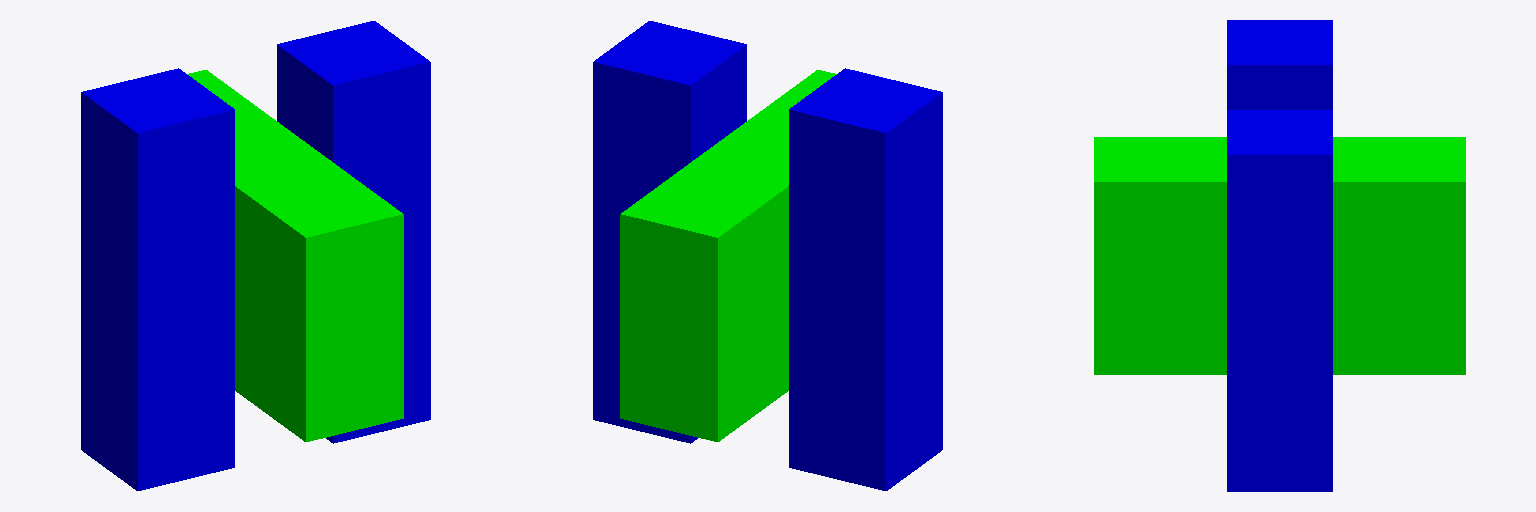
URDF robot description (robot):
<robot name = "robot">
    <link name="root">
        <inertial>
            <origin xyz="0.0 0.0 1.5" rpy="0 0 0"/>
            <mass value="1" />
            <inertia ixx="100" ixy="0" ixz="0" iyy="100" iyz="0" izz="100" />
        </inertial>
        <visual>
            <origin xyz="0.0 0.0 1.5" rpy="0 0 0"/>
            <geometry>
                <box size="0 0 0.0001" />
            </geometry>
            <material name="Green">
                <color rgba="0 1.0 0.0 1.0"/>
            </material>
        </visual>
        <collision>
            <origin xyz="0.0 0.0 1.5" rpy="0 0 0"/>
            <geometry>
                <box size="0 0 0.0001" />
            </geometry>
        </collision>
    </link>
    <joint name="root_000" type="revolute">
       <parent link="root"/>
       <child  link="000"/>
       <origin rpy="0 0 0" xyz="0.0 0.0 1.5" />
     <axis xyz="1 0 0"/>
       <limit effort="0.0" lower="-3.14159" upper="3.14159" velocity="0.0"/>
    </joint>
    <link name="000">
        <inertial>
            <origin xyz="0.0 0.0 -0.2" rpy="0 0 0"/>
            <mass value="1" />
            <inertia ixx="100" ixy="0" ixz="0" iyy="100" iyz="0" izz="100" />
        </inertial>
        <visual>
            <origin xyz="0.0 0.0 -0.2" rpy="0 0 0"/>
            <geometry>
                <box size="0.2 0.7 0.4" />
            </geometry>
            <material name="Green">
                <color rgba="0 1.0 0.0 1.0"/>
            </material>
        </visual>
        <collision>
            <origin xyz="0.0 0.0 -0.2" rpy="0 0 0"/>
            <geometry>
                <box size="0.2 0.7 0.4" />
            </geometry>
        </collision>
    </link>
    <joint name="000_000-100" type="revolute">
       <parent link="000"/>
       <child  link="000-100"/>
       <origin rpy="0 0 0" xyz="0.1 0.0 -0.2" />
     <axis xyz="1 0 0"/>
       <limit effort="0.0" lower="-3.14159" upper="3.14159" velocity="0.0"/>
    </joint>
    <link name="000-100">
        <inertial>
            <origin xyz="0.05 0.0 -0.0" rpy="0 0 0"/>
            <mass value="1" />
            <inertia ixx="100" ixy="0" ixz="0" iyy="100" iyz="0" izz="100" />
        </inertial>
        <visual>
            <origin xyz="0.05 0.0 -0.0" rpy="0 0 0"/>
            <geometry>
                <box size="0.1 0.2 0.7" />
            </geometry>
            <material name="Blue">
                <color rgba="0 0.0 1.0 1.0"/>
            </material>
        </visual>
        <collision>
            <origin xyz="0.05 0.0 -0.0" rpy="0 0 0"/>
            <geometry>
                <box size="0.1 0.2 0.7" />
            </geometry>
        </collision>
    </link>
    <joint name="000-100_000-110" type="revolute">
       <parent link="000-100"/>
       <child  link="000-110"/>
       <origin rpy="0 0 0" xyz="0.1 0.0 -0.0" />
     <axis xyz="1 0 0"/>
       <limit effort="0.0" lower="-3.14159" upper="3.14159" velocity="0.0"/>
    </joint>
    <link name="000-110">
        <inertial>
            <origin xyz="0.05 0.0 -0.0" rpy="0 0 0"/>
            <mass value="1" />
            <inertia ixx="100" ixy="0" ixz="0" iyy="100" iyz="0" izz="100" />
        </inertial>
        <visual>
            <origin xyz="0.05 0.0 -0.0" rpy="0 0 0"/>
            <geometry>
                <box size="0.1 0.2 0.7" />
            </geometry>
            <material name="Blue">
                <color rgba="0 0.0 1.0 1.0"/>
            </material>
        </visual>
        <collision>
            <origin xyz="0.05 0.0 -0.0" rpy="0 0 0"/>
            <geometry>
                <box size="0.1 0.2 0.7" />
            </geometry>
        </collision>
    </link>
    <joint name="000_000-101" type="revolute">
       <parent link="000"/>
       <child  link="000-101"/>
       <origin rpy="0 0 0" xyz="-0.1 0.0 -0.2" />
     <axis xyz="1 0 0"/>
       <limit effort="0.0" lower="-3.14159" upper="3.14159" velocity="0.0"/>
    </joint>
    <link name="000-101">
        <inertial>
            <origin xyz="-0.05 0.0 -0.0" rpy="0 0 0"/>
            <mass value="1" />
            <inertia ixx="100" ixy="0" ixz="0" iyy="100" iyz="0" izz="100" />
        </inertial>
        <visual>
            <origin xyz="-0.05 0.0 -0.0" rpy="0 0 0"/>
            <geometry>
                <box size="0.1 0.2 0.7" />
            </geometry>
            <material name="Blue">
                <color rgba="0 0.0 1.0 1.0"/>
            </material>
        </visual>
        <collision>
            <origin xyz="-0.05 0.0 -0.0" rpy="0 0 0"/>
            <geometry>
                <box size="0.1 0.2 0.7" />
            </geometry>
        </collision>
    </link>
    <joint name="000-101_000-111" type="revolute">
       <parent link="000-101"/>
       <child  link="000-111"/>
       <origin rpy="0 0 0" xyz="-0.1 0.0 -0.0" />
     <axis xyz="1 0 0"/>
       <limit effort="0.0" lower="-3.14159" upper="3.14159" velocity="0.0"/>
    </joint>
    <link name="000-111">
        <inertial>
            <origin xyz="-0.05 0.0 -0.0" rpy="0 0 0"/>
            <mass value="1" />
            <inertia ixx="100" ixy="0" ixz="0" iyy="100" iyz="0" izz="100" />
        </inertial>
        <visual>
            <origin xyz="-0.05 0.0 -0.0" rpy="0 0 0"/>
            <geometry>
                <box size="0.1 0.2 0.7" />
            </geometry>
            <material name="Blue">
                <color rgba="0 0.0 1.0 1.0"/>
            </material>
        </visual>
        <collision>
            <origin xyz="-0.05 0.0 -0.0" rpy="0 0 0"/>
            <geometry>
                <box size="0.1 0.2 0.7" />
            </geometry>
        </collision>
    </link>
</robot>

--- Facts derived from the render (not from the file) ---
Views: 3 orthographic renders of the robot side by side, from view 1: azimuth 30°, elevation 25°; view 2: azimuth 150°, elevation 25°; view 3: azimuth 270°, elevation 25°.
Robot: robot — 6 links, 5 joints (5 revolute); root link root; default pose: every joint at zero.
Visible links, largest first — view 1: 000, 000-111, 000-101, 000-110, 000-100; view 2: 000, 000-111, 000-101, 000-110, 000-100; view 3: 000, 000-110, 000-101, 000-100, 000-111.
Link boxes in pixels (x1,y1,x2,y2): 000: (187,70,403,441); 000-111: (81,80,185,490); 000-101: (131,68,234,479); 000-110: (326,21,430,431); 000-100: (277,32,381,443); 000: (620,70,836,441); 000-111: (838,80,942,490); 000-101: (789,68,892,479); 000-110: (593,21,697,431); 000-100: (642,32,746,443); 000: (1094,137,1465,374); 000-110: (1227,133,1332,491); 000-101: (1227,43,1332,109); 000-100: (1227,110,1332,132); 000-111: (1227,20,1332,42).
Size in the robot's own frame: 0.6 by 0.7 by 0.7 metres.
Geometry: primitives only (box / cylinder / sphere), no mesh files.